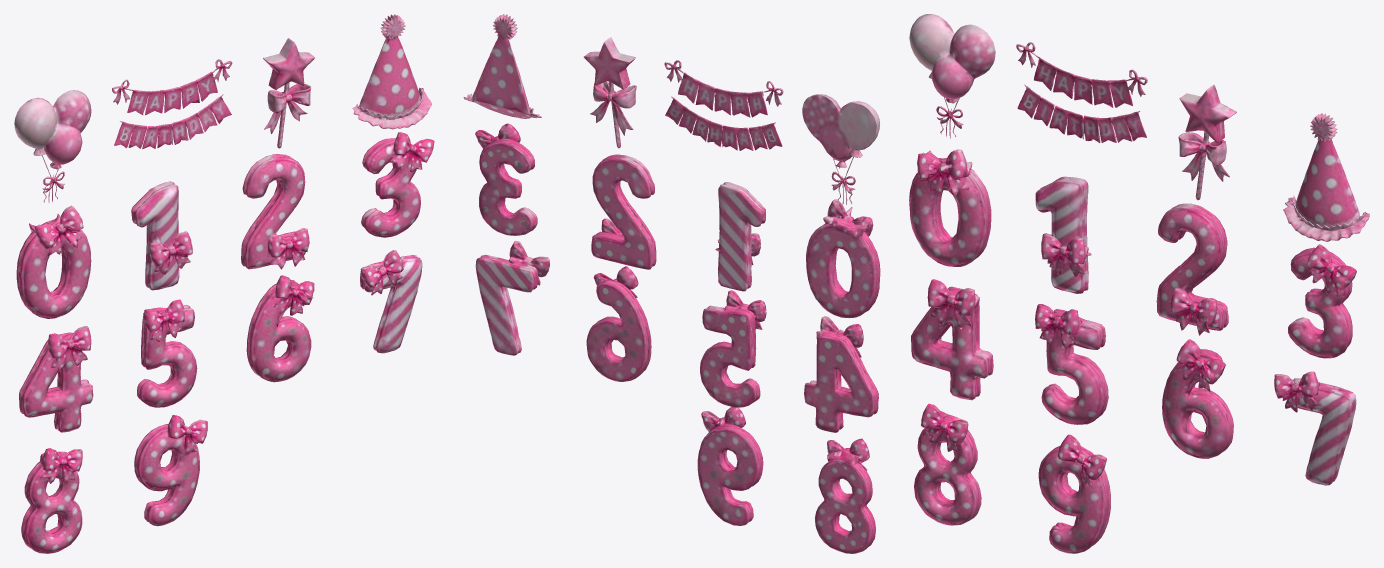
3 views of the same model, side by side, from view 1: azimuth 30°, elevation 25°; view 2: azimuth 150°, elevation 25°; view 3: azimuth 330°, elevation 25° (orthographic). The views are drawn at different scales.
Visible parts, largest first — view 1: Mesh 2, Mesh 11, Mesh 8, Mesh 3, Mesh 12, Mesh 4, Mesh 10, Mesh 15, Mesh 16, Mesh 9, Mesh 1, Mesh 7 (+2 smaller); view 2: Mesh 2, Mesh 3, Mesh 11, Mesh 8, Mesh 4, Mesh 12, Mesh 9, Mesh 10, Mesh 16, Mesh 14, Mesh 1, Mesh 7 (+2 smaller); view 3: Mesh 2, Mesh 11, Mesh 3, Mesh 10, Mesh 8, Mesh 12, Mesh 9, Mesh 4, Mesh 15, Mesh 1, Mesh 16, Mesh 7 (+2 smaller).
Boxes of the visible parts, left/top/right/bottom form: Mesh 2: left=16, top=205, right=91, bottom=318; Mesh 11: left=241, top=154, right=309, bottom=269; Mesh 8: left=134, top=415, right=207, bottom=526; Mesh 3: left=19, top=326, right=93, bottom=432; Mesh 12: left=246, top=275, right=314, bottom=382; Mesh 4: left=21, top=448, right=82, bottom=553; Mesh 10: left=112, top=59, right=232, bottom=149; Mesh 15: left=352, top=14, right=431, bottom=129; Mesh 16: left=361, top=132, right=434, bottom=237; Mesh 9: left=137, top=299, right=197, bottom=407; Mesh 1: left=14, top=90, right=91, bottom=202; Mesh 7: left=131, top=181, right=192, bottom=290; Mesh 2: left=806, top=199, right=880, bottom=318; Mesh 3: left=804, top=316, right=878, bottom=432; Mesh 11: left=591, top=154, right=656, bottom=269; Mesh 8: left=697, top=407, right=763, bottom=525; Mesh 4: left=815, top=438, right=875, bottom=553; Mesh 12: left=586, top=266, right=651, bottom=381; Mesh 9: left=700, top=290, right=766, bottom=407; Mesh 10: left=664, top=60, right=783, bottom=150; Mesh 16: left=475, top=123, right=537, bottom=235; Mesh 14: left=475, top=241, right=549, bottom=355; Mesh 1: left=802, top=94, right=879, bottom=204; Mesh 7: left=715, top=182, right=765, bottom=291; Mesh 2: left=909, top=149, right=991, bottom=266; Mesh 11: left=1156, top=203, right=1228, bottom=335; Mesh 3: left=911, top=279, right=993, bottom=400; Mesh 10: left=1016, top=42, right=1147, bottom=142; Mesh 8: left=1038, top=434, right=1110, bottom=553; Mesh 12: left=1162, top=339, right=1233, bottom=458; Mesh 9: left=1035, top=304, right=1108, bottom=424; Mesh 4: left=914, top=403, right=981, bottom=525; Mesh 15: left=1283, top=113, right=1369, bottom=241; Mesh 1: left=909, top=14, right=995, bottom=138; Mesh 16: left=1288, top=244, right=1356, bottom=358; Mesh 7: left=1035, top=176, right=1091, bottom=293.
Size of the model in its own units: 1.8 by 1.9 by 0.1597.
Materials: 14 (14 with a texture image).
